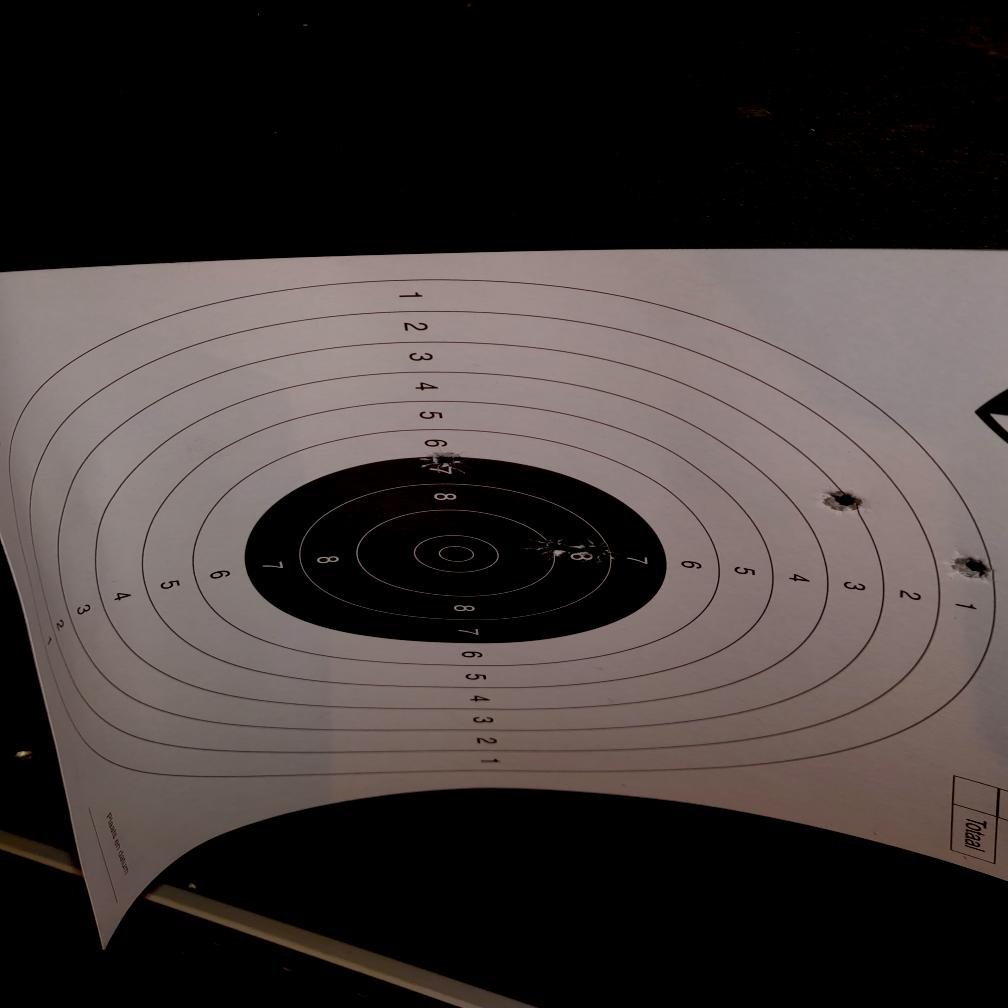1: (944, 551, 996, 584)
3: (816, 488, 867, 514)
7: (416, 449, 472, 475)
8: (571, 539, 619, 564)
9: (524, 534, 571, 562)
Target: (3, 278, 1001, 778)
black_contour: (244, 457, 663, 648)
